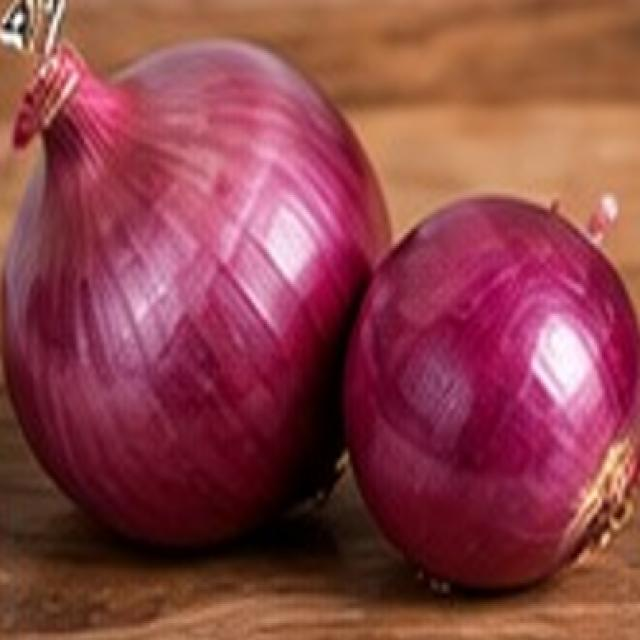healthy: (184, 120, 197, 130)
